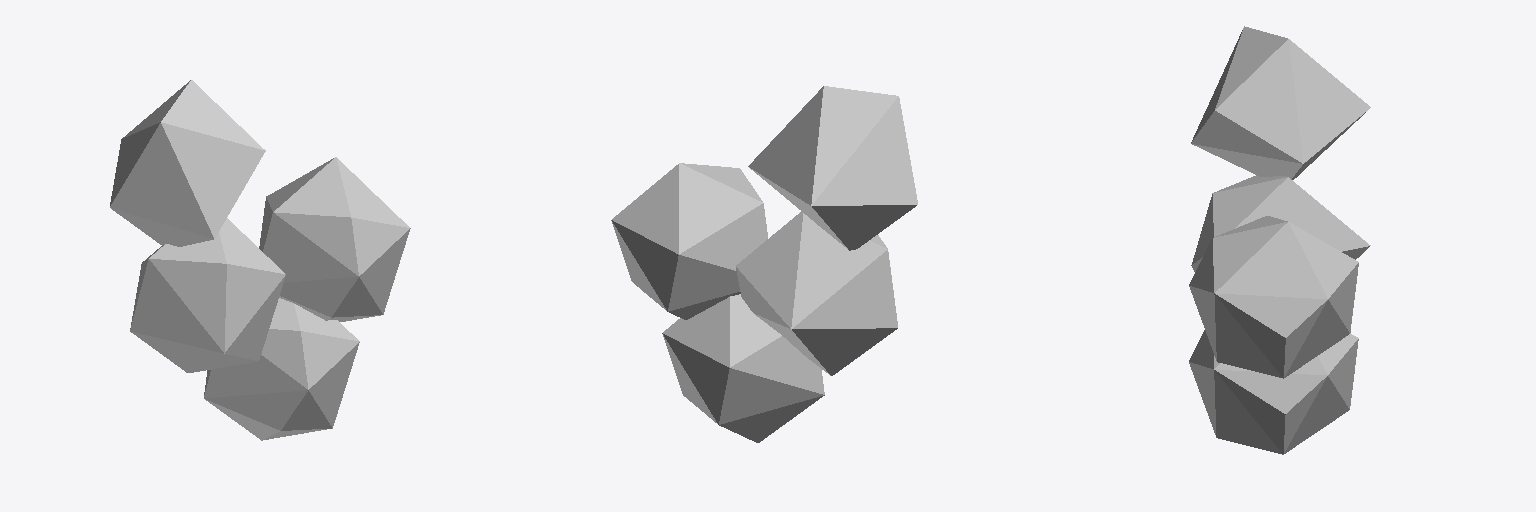
File: Cloud22.obj
3 renders of one model, left to right at view 1: azimuth 30°, elevation 25°; view 2: azimuth 150°, elevation 25°; view 3: azimuth 270°, elevation 25°, orthographic.
Parts seen in each view (by area): view 1: Cloud22_Object_54_Object_25.001; view 2: Cloud22_Object_54_Object_25.001; view 3: Cloud22_Object_54_Object_25.001.
Boxes of the visible parts, <box> form: Cloud22_Object_54_Object_25.001: <box>110,80,410,440</box>; Cloud22_Object_54_Object_25.001: <box>611,86,917,442</box>; Cloud22_Object_54_Object_25.001: <box>1189,26,1370,454</box>.
Size of the model in its own units: 1.06 by 1.28 by 0.5659.